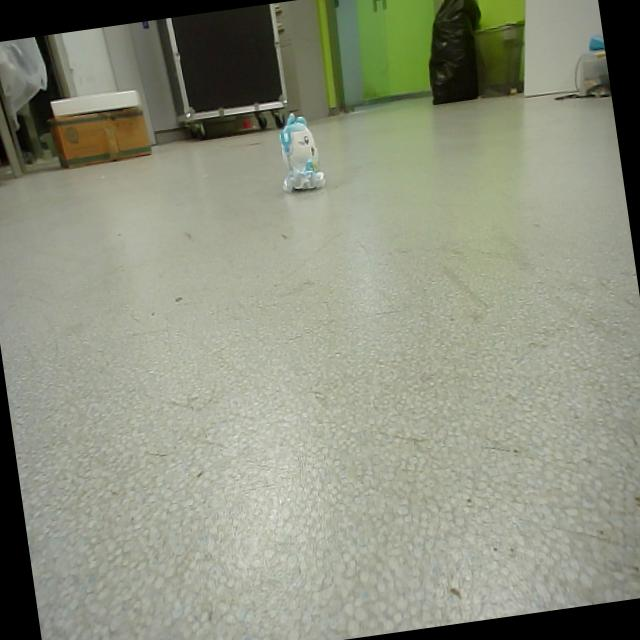xiaoba: (275, 106, 331, 203)
